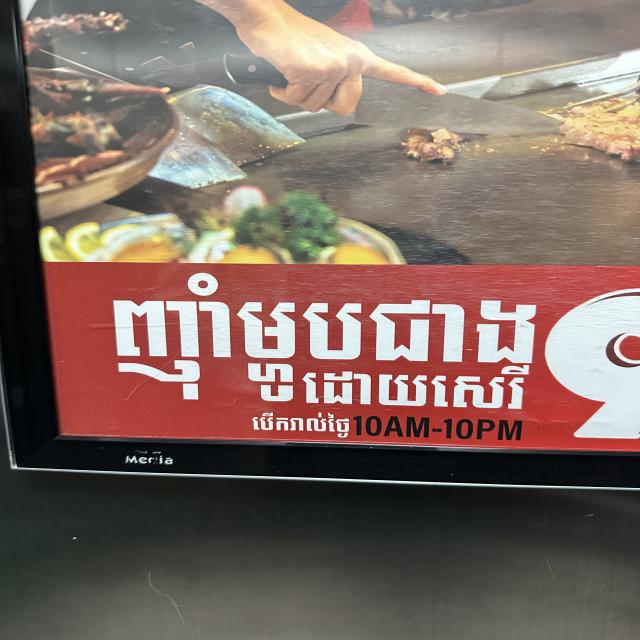34: (238, 407, 535, 444)
Yolov11kh: (98, 270, 547, 371), (297, 373, 535, 412)
